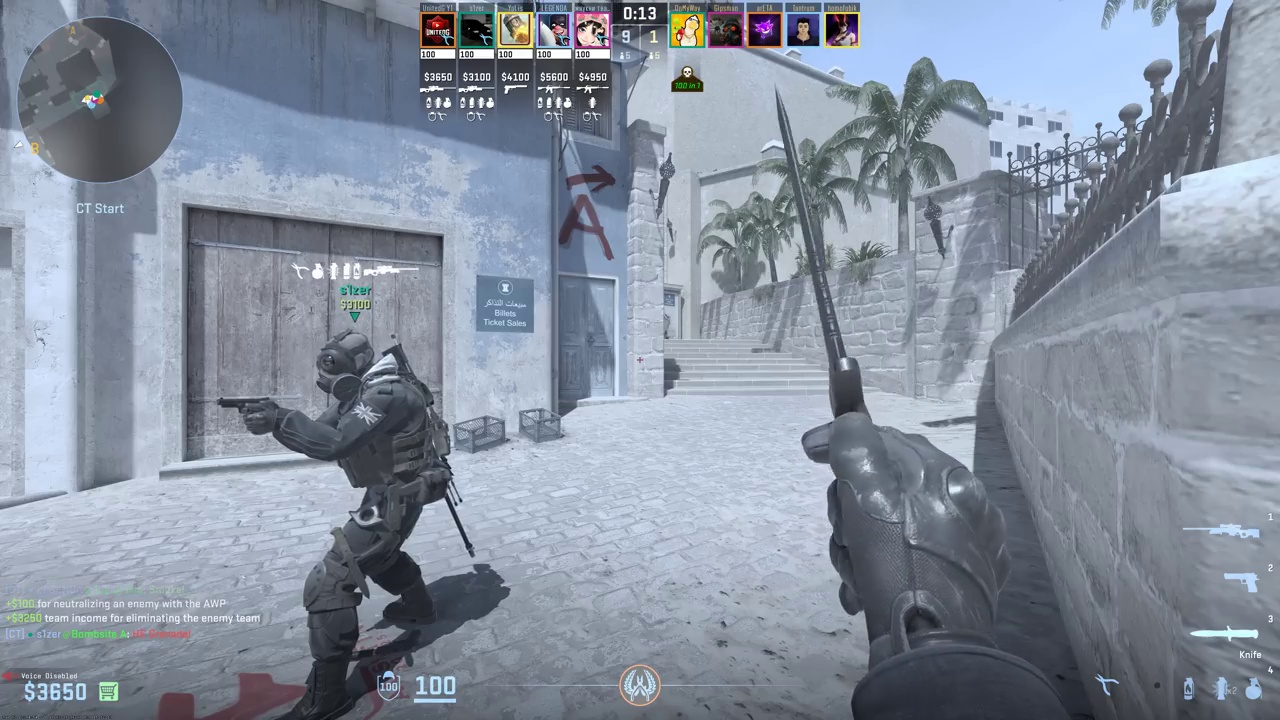CT: (290, 329, 447, 715)
